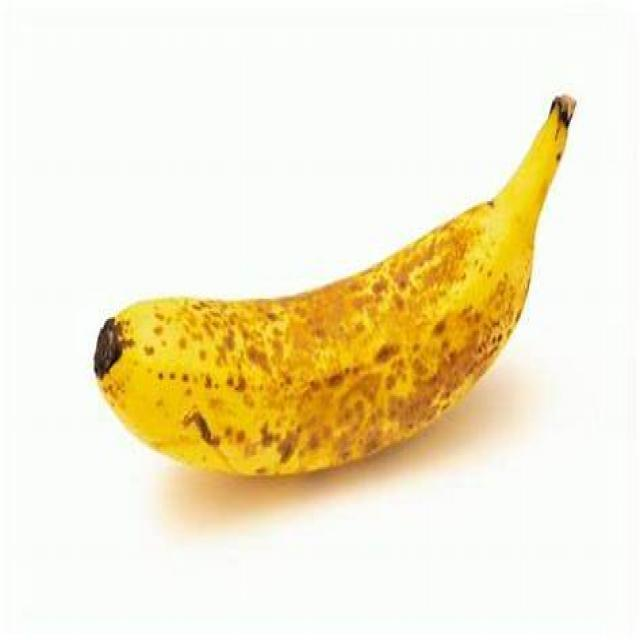Banana: (92, 96, 586, 482)
